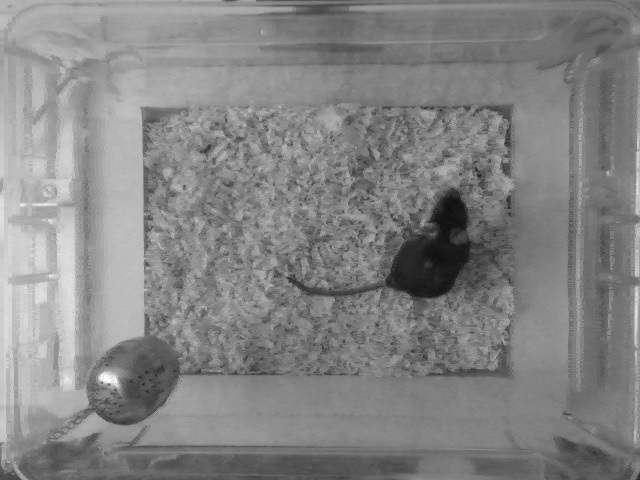mice: (284, 190, 473, 301)
